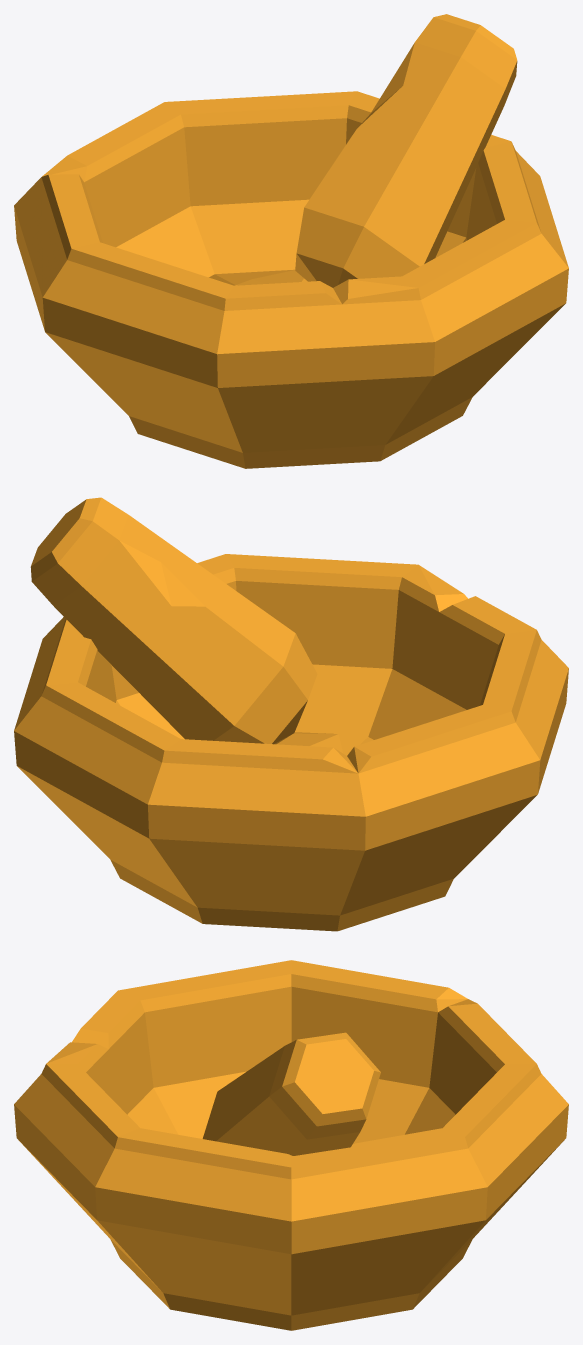
File: SM_Mortar_Stone_Full.fbx
3 renders of one model, top to bottom at view 1: azimuth 30°, elevation 25°; view 2: azimuth 150°, elevation 25°; view 3: azimuth 270°, elevation 25°, orthographic. The views are drawn at different scales.
Parts seen in each view (by area): view 1: mortar-stone-full; view 2: mortar-stone-full; view 3: mortar-stone-full.
Part boxes in pixels (x1,y1,x2,y2): mortar-stone-full: (14, 14, 568, 468); mortar-stone-full: (14, 497, 568, 931); mortar-stone-full: (14, 960, 568, 1330).
Size of the model in its own units: 0.2551 by 0.1557 by 0.2551.
